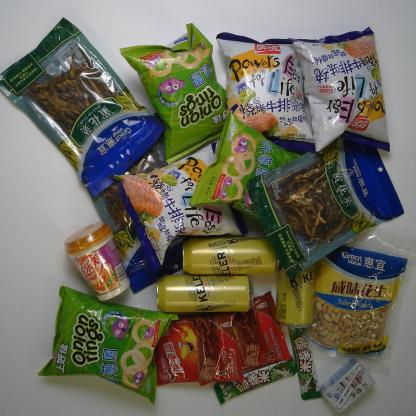Alcohol: (155, 273, 255, 314), (182, 236, 283, 276), (275, 255, 316, 329)
Chocolate: (213, 354, 297, 405), (288, 325, 322, 401)
Dessert: (198, 290, 292, 386), (152, 312, 244, 386)
Dried Food: (0, 17, 166, 198), (86, 111, 218, 295), (245, 132, 406, 280)
Dried Fruit: (297, 233, 416, 362)
Instant Drink: (62, 221, 131, 302)
Milk: (318, 356, 377, 414)
Puffed Food: (107, 140, 251, 276), (36, 285, 179, 405), (117, 22, 226, 165), (287, 26, 391, 157), (188, 108, 304, 223), (216, 31, 317, 155)
